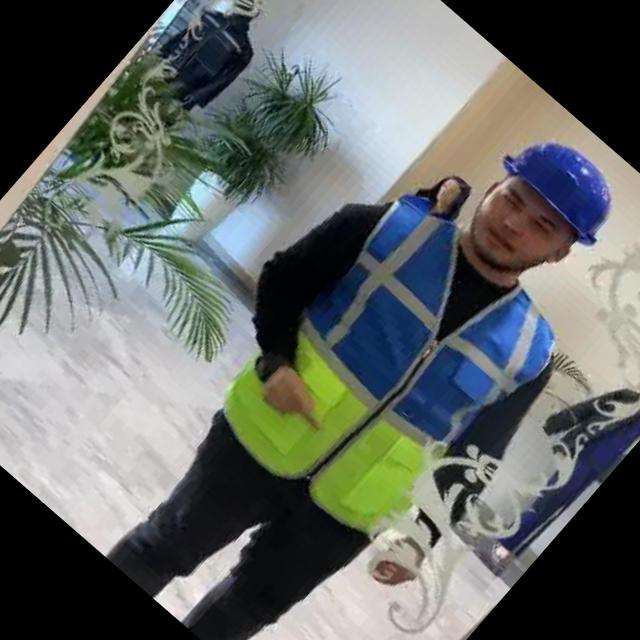hard_hat: (492, 115, 636, 253)
safety_vest: (200, 180, 573, 562)
